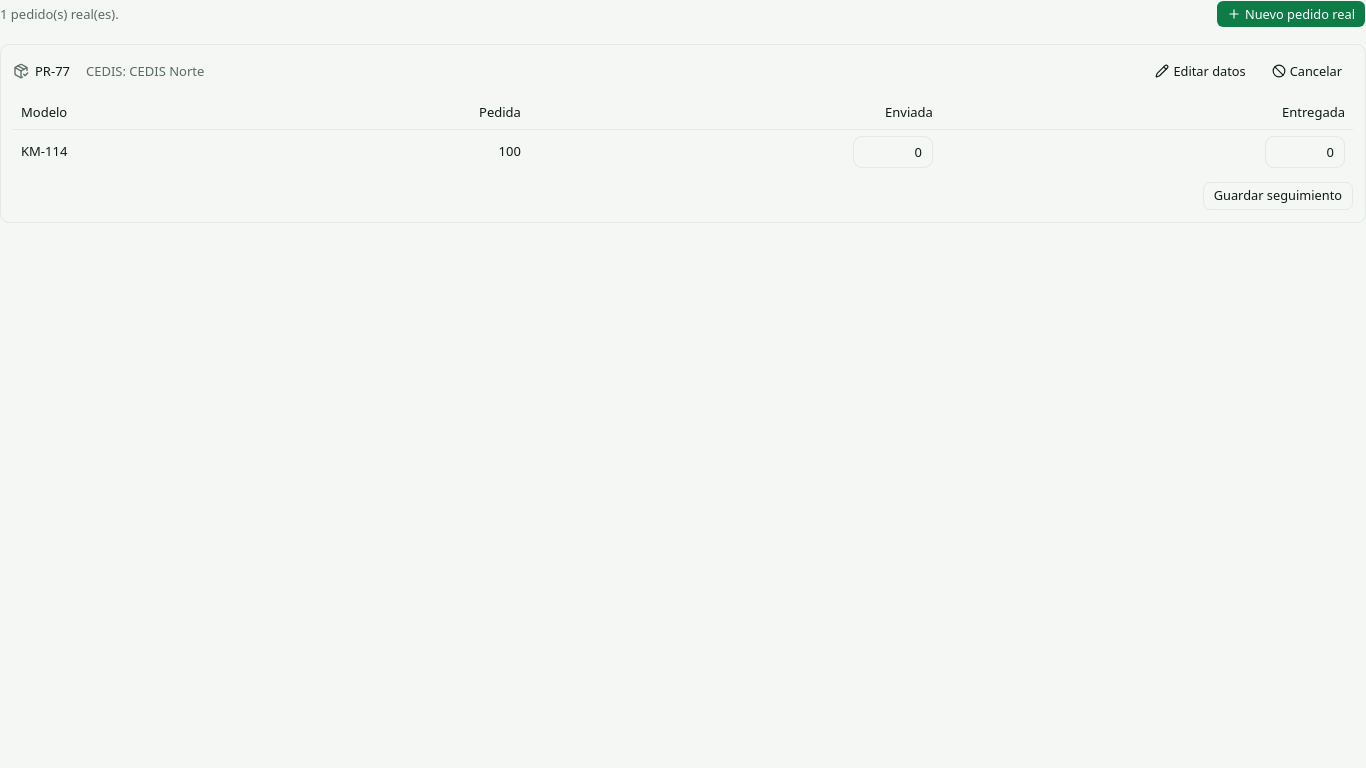
Test case: ⭐ PanelPedidosReales — cancelar el pedido real (V1-E4 punto 6) › SIN motivo no deja confirmar (D3: la cancelación lleva su porqué)
The image size is (1366, 768).
Click the button with test id "cancelar-pedido-real".
click(1307, 71)  # box [1261,57,1353,85]
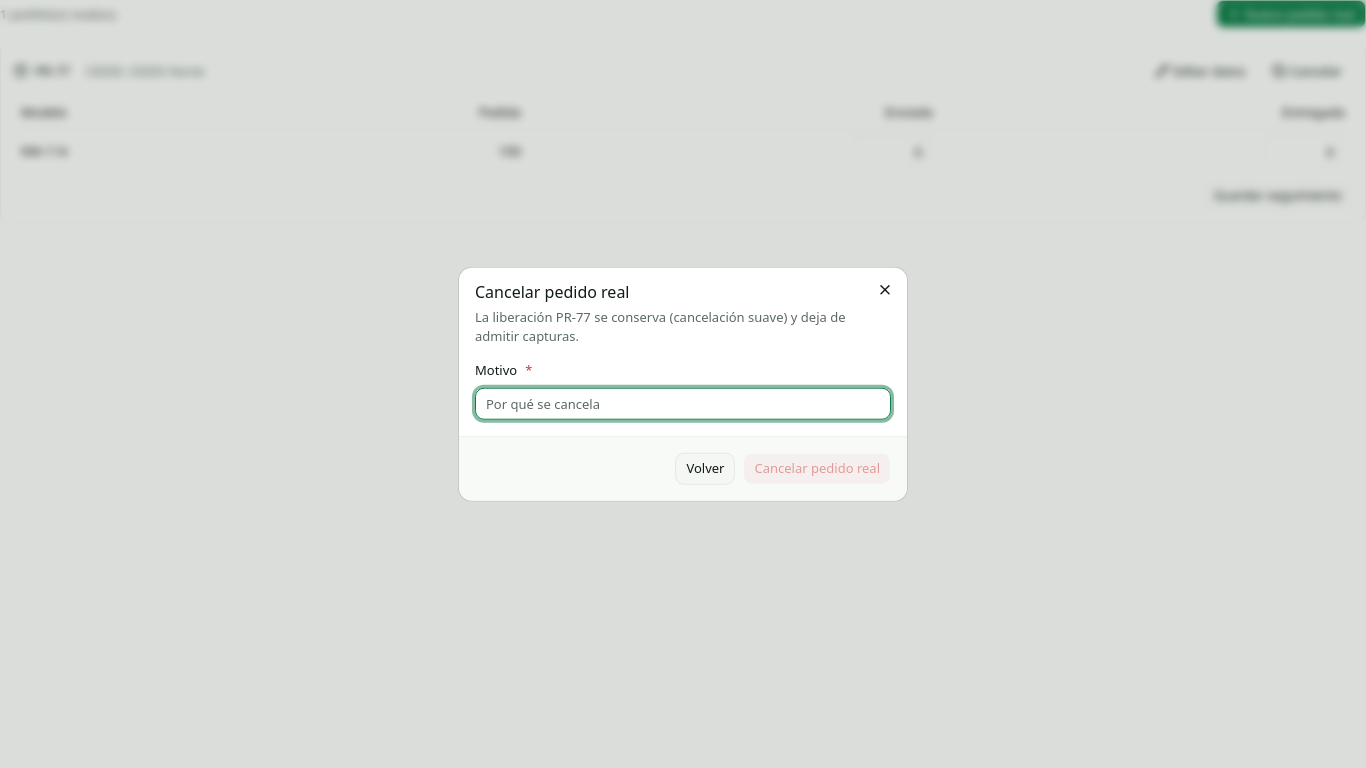
Now the button with test id "confirmar-cancelar-pedido-real" is disabled, box [744,452,891,484]
